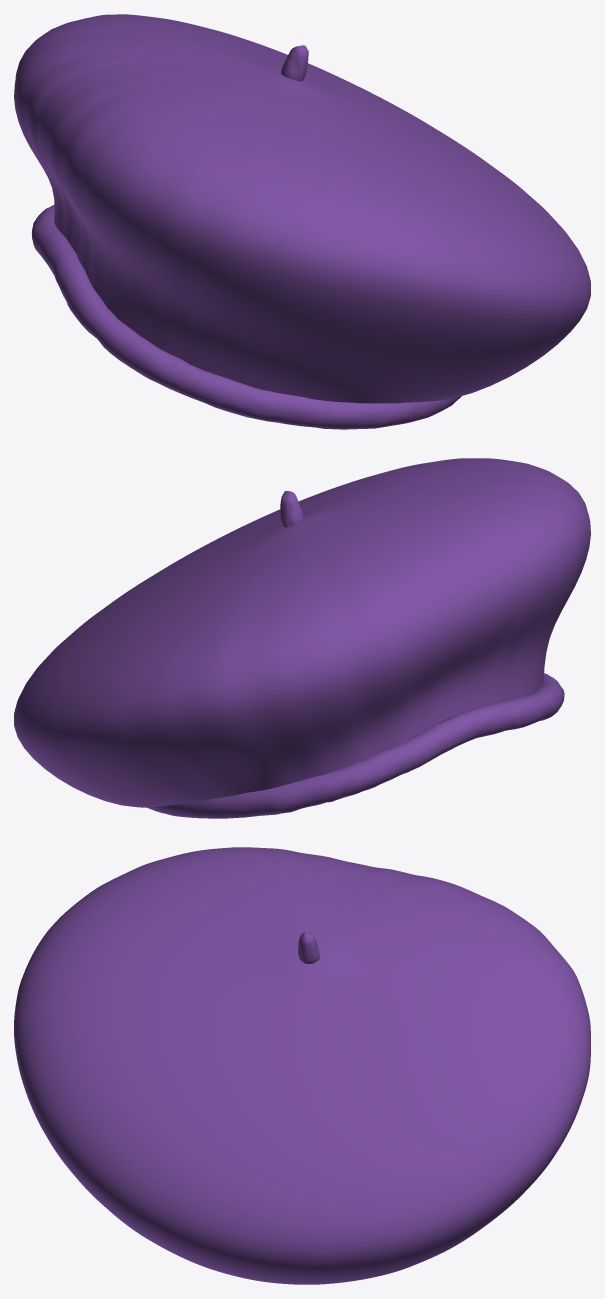
File: beret_m.glb
The picture shows the model from 3 angles, top to bottom: view 1: azimuth 30°, elevation 25°; view 2: azimuth 150°, elevation 25°; view 3: azimuth 270°, elevation 25°; orthographic projection. The views are drawn at different scales.
Parts seen in each view (by area): view 1: Acc_beret_Beret, Acc_beret_BeretBand, Acc_beret_BeretStalk; view 2: Acc_beret_Beret, Acc_beret_BeretBand, Acc_beret_BeretStalk; view 3: Acc_beret_Beret, Acc_beret_BeretStalk.
Boxes of the visible parts, left/top/right/bottom form: Acc_beret_Beret: left=14, top=14, right=590, bottom=403; Acc_beret_BeretBand: left=31, top=205, right=461, bottom=429; Acc_beret_BeretStalk: left=281, top=45, right=308, bottom=81; Acc_beret_Beret: left=14, top=458, right=590, bottom=807; Acc_beret_BeretBand: left=146, top=673, right=564, bottom=818; Acc_beret_BeretStalk: left=280, top=491, right=303, bottom=527; Acc_beret_Beret: left=14, top=847, right=590, bottom=1284; Acc_beret_BeretStalk: left=298, top=931, right=319, bottom=963.
Bounding box in the file's own units: 0.3743 × 0.2368 × 0.4351.
